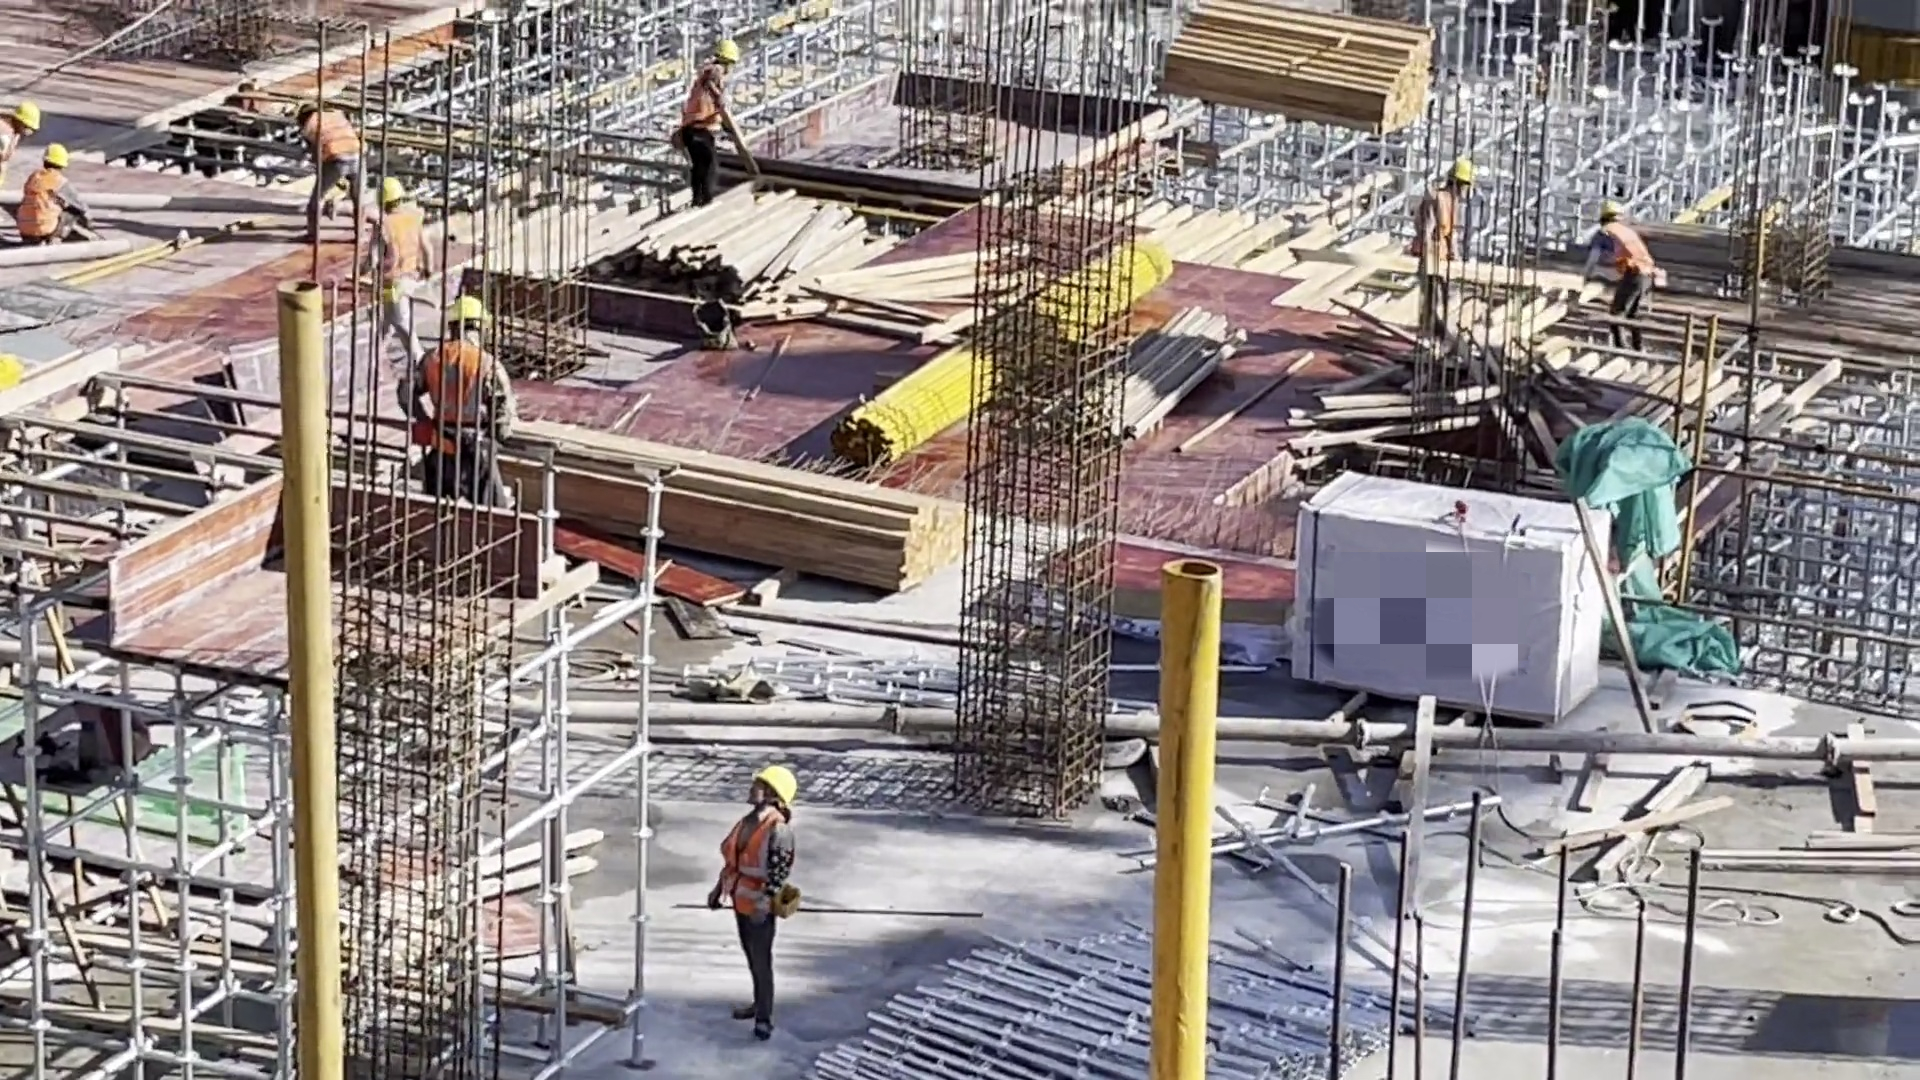helmet: (756, 764, 795, 810), (448, 297, 489, 325), (375, 177, 408, 204), (42, 144, 68, 171), (12, 105, 39, 130), (715, 40, 739, 63), (1449, 161, 1473, 183), (1599, 201, 1623, 216)
person: (713, 769, 792, 1041), (411, 297, 512, 503), (370, 177, 429, 364), (1413, 162, 1466, 341), (1586, 201, 1650, 349), (682, 39, 739, 206), (288, 97, 367, 216), (16, 146, 86, 251), (1, 106, 39, 192)
vest: (427, 345, 490, 442), (720, 818, 779, 919), (374, 212, 425, 304), (1598, 212, 1656, 291), (17, 166, 66, 243), (302, 111, 355, 165), (1423, 191, 1452, 285), (685, 85, 715, 134)
